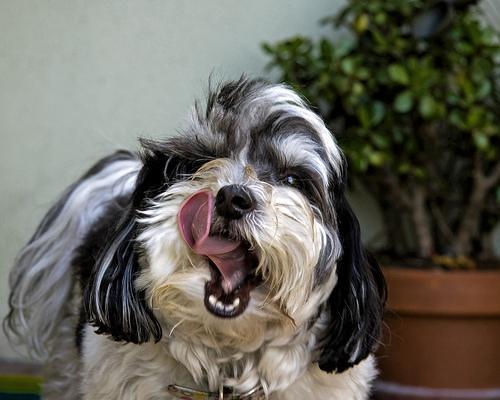dog-havanese: (82, 120, 384, 372)
